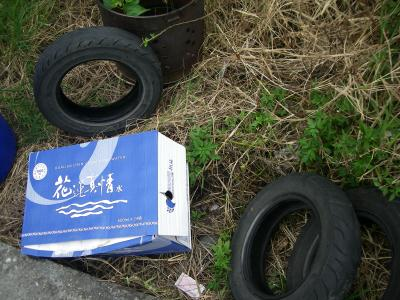box: (17, 128, 192, 261)
bucket: (96, 1, 208, 87)
tire: (228, 173, 363, 298), (31, 24, 165, 137), (287, 182, 399, 299)
